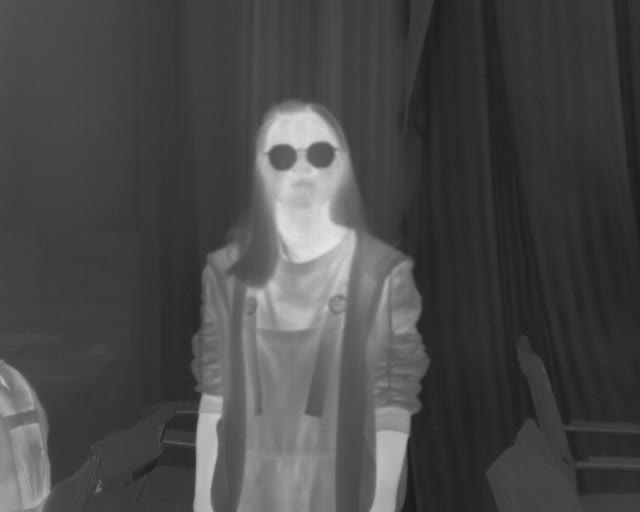face: (388, 182, 463, 266), (231, 144, 300, 233)
